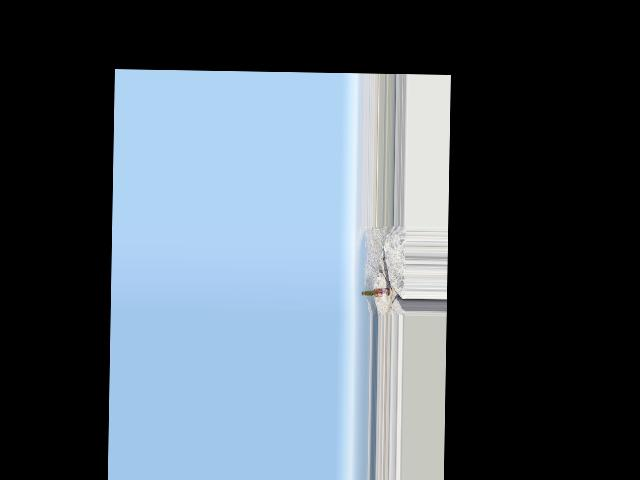beer: (361, 287, 389, 297)
